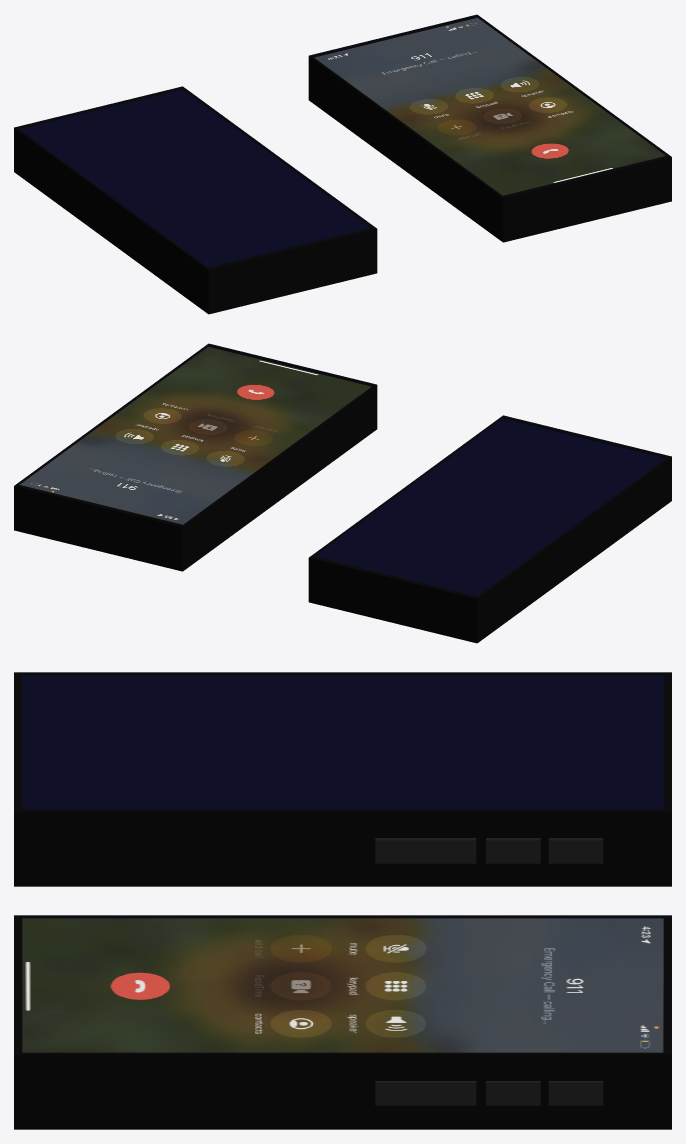
File: phone.fbx
The picture shows the model from 3 angles, top to bottom: view 1: azimuth 30°, elevation 25°; view 2: azimuth 150°, elevation 25°; view 3: azimuth 270°, elevation 25°; orthographic projection. The views are drawn at different scales.
Parts seen in each view (by area): view 1: Phone_off, Phone_on; view 2: Phone_off, Phone_on; view 3: Phone_off, Phone_on.
Boxes of the visible parts, bbox=[...] form: Phone_off: bbox=[14, 86, 377, 314]; Phone_on: bbox=[308, 14, 671, 242]; Phone_off: bbox=[308, 415, 671, 643]; Phone_on: bbox=[14, 343, 377, 571]; Phone_off: bbox=[14, 672, 671, 886]; Phone_on: bbox=[14, 915, 671, 1129].
Bounding box in the file's own units: 767 × 70.1 × 556.
4 materials, 1 textured.
